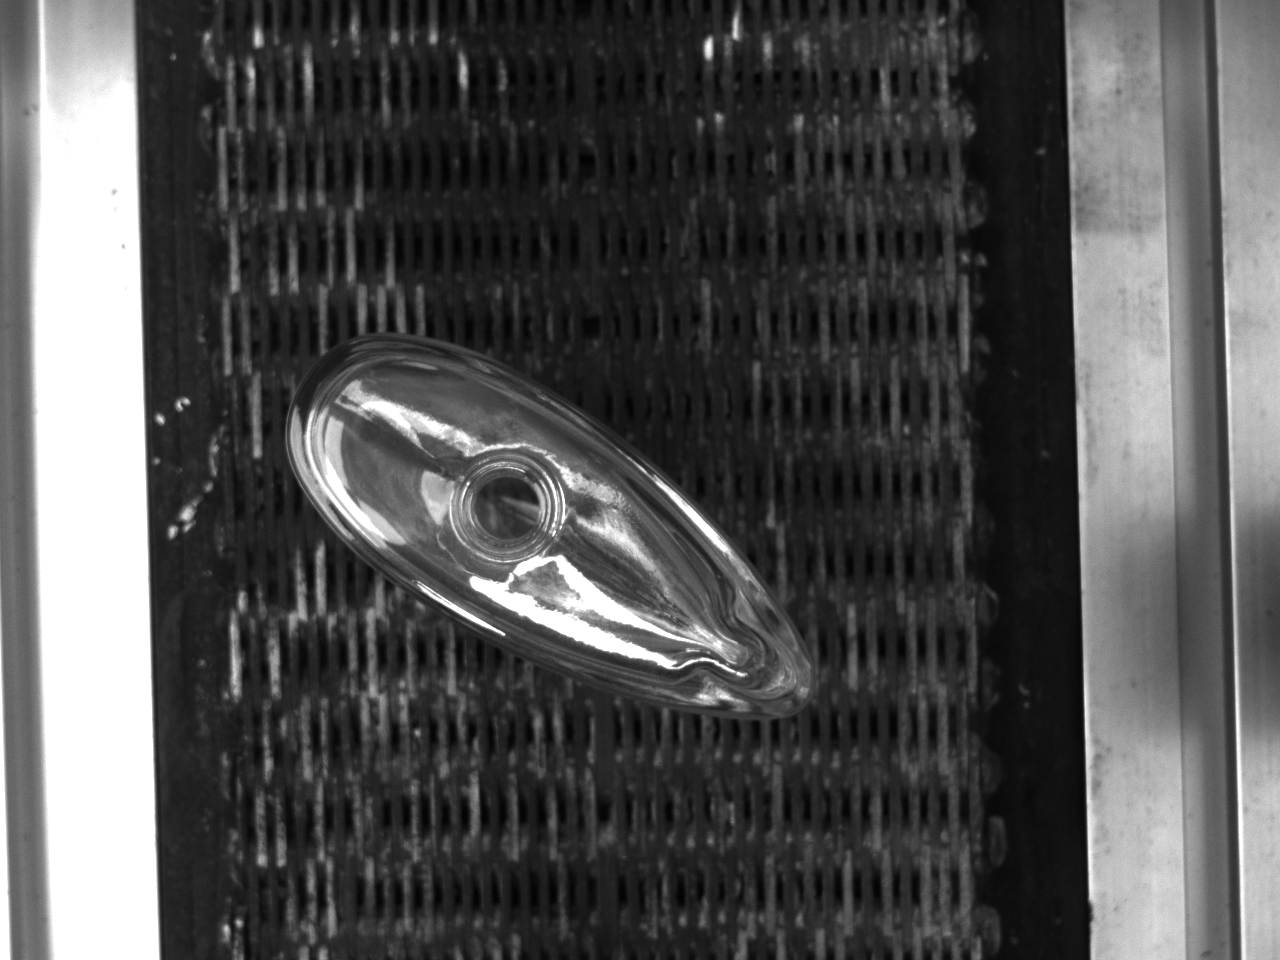bottleneck: (451, 450, 567, 562)
